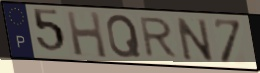5: (30, 7, 69, 57)
7: (214, 17, 243, 66)
H: (64, 9, 110, 60)
N: (174, 16, 216, 63)
Q: (105, 13, 144, 60)
R: (138, 16, 180, 60)
